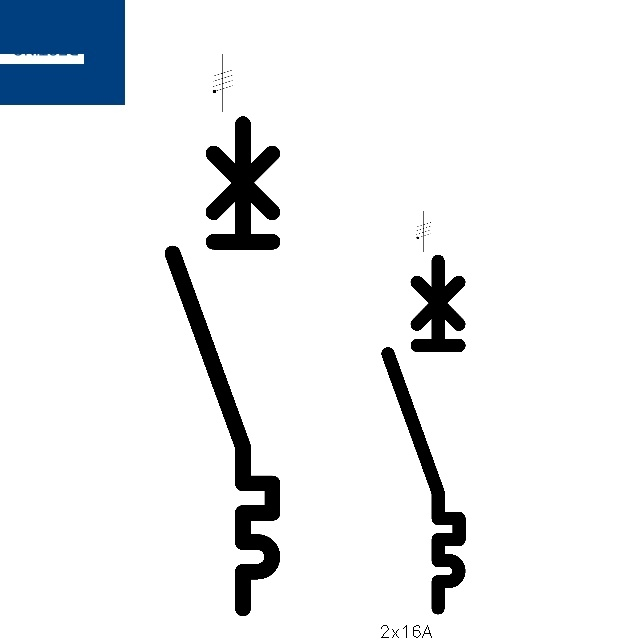interruptor_termomagnetico: (160, 111, 285, 620), (379, 252, 468, 617)
